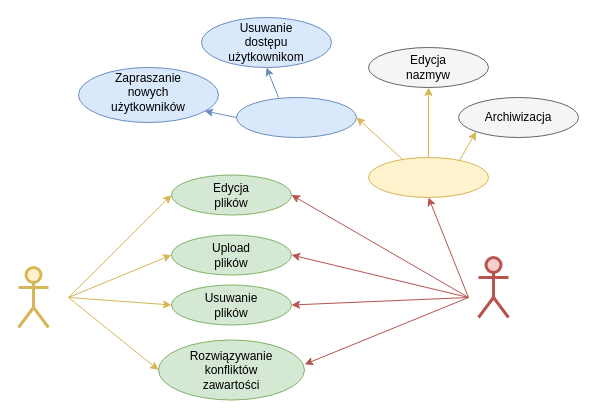
The diagram is 596 pixels wide and 418 high, and some of its shapes have lost their labels. Each missing label, with the box of its shape:
Gość: (16, 266, 50, 328)
Udzielanie dostępu: (236, 96, 356, 138)
Właściciel: (476, 256, 510, 318)
Zarządzanie magazynem: (368, 156, 488, 198)
